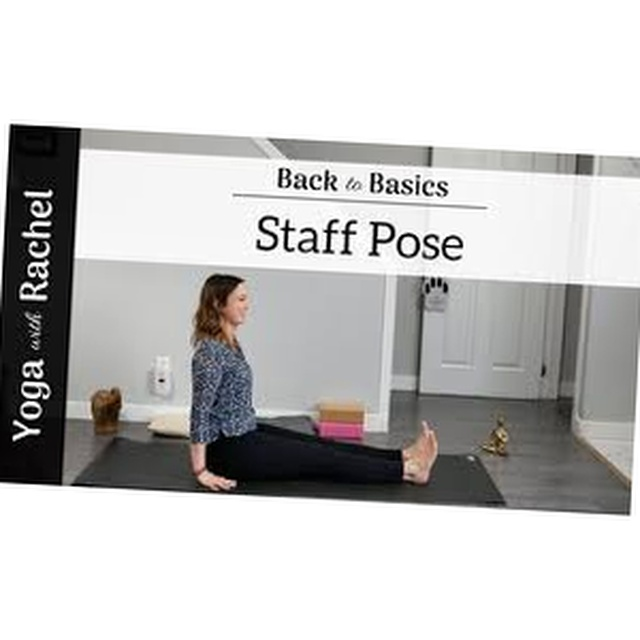Staff_Pose: (187, 273, 438, 490)
